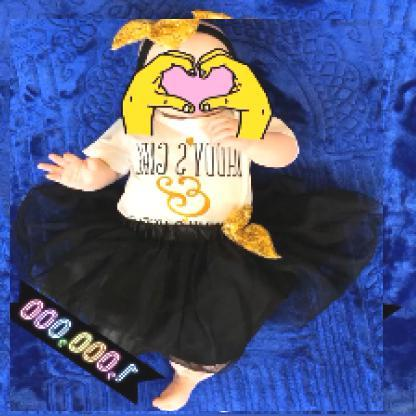child: (11, 20, 385, 413)
